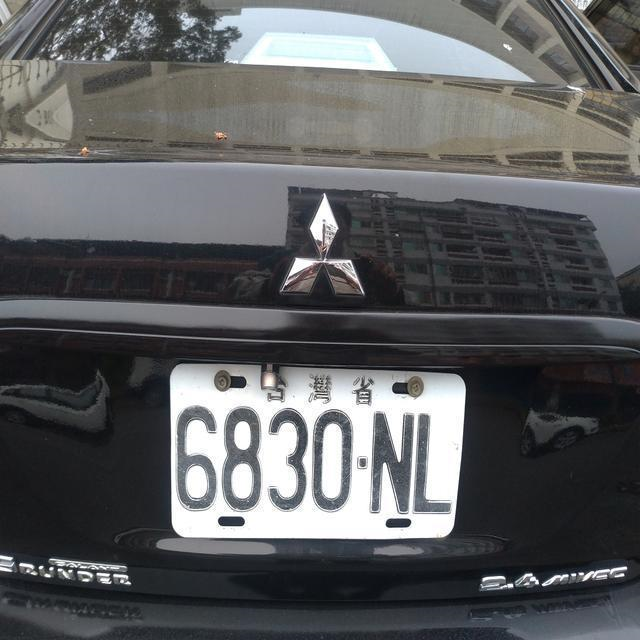license: (169, 399, 460, 520)
